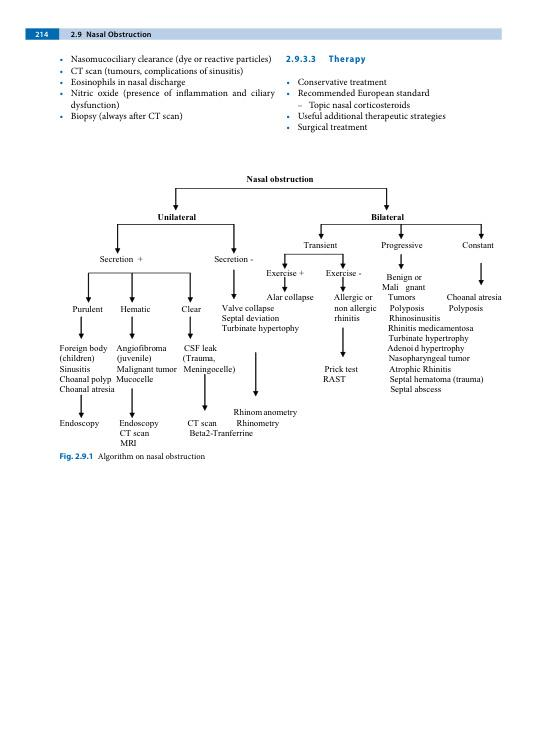caption: (58, 452, 206, 462)
header: (85, 30, 152, 38)
image: (50, 169, 515, 450)
list: (58, 54, 277, 123), (285, 77, 447, 135)
sub-section-heading: (327, 54, 367, 65)
